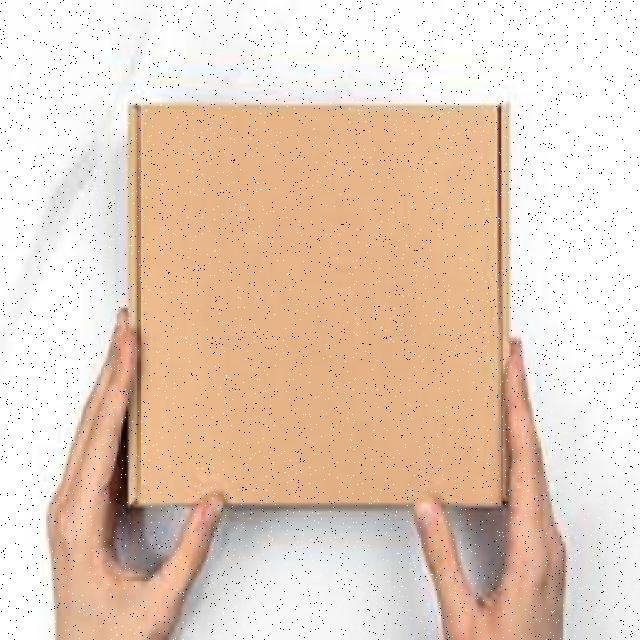normal: (112, 98, 510, 516)
